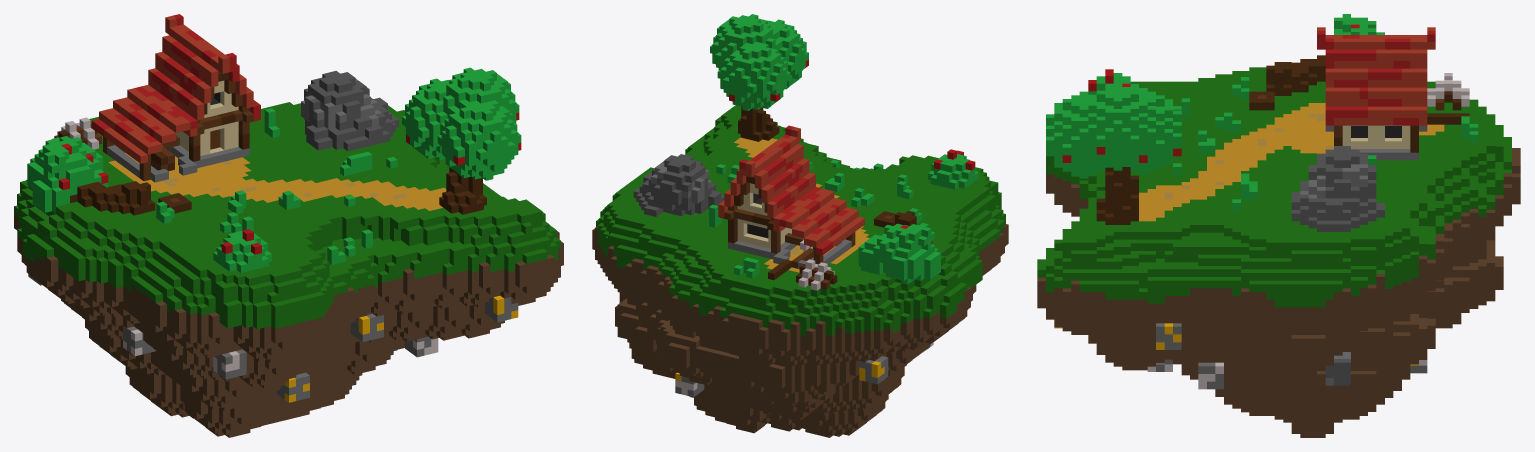
Rendered from Wood.obj.
3 renders of one model, left to right at view 1: azimuth 30°, elevation 25°; view 2: azimuth 150°, elevation 25°; view 3: azimuth 270°, elevation 25°, orthographic. The views are drawn at different scales.
Bounding box in the file's own units: 5.7 × 4.8 × 5.7.
Materials: 1 (1 with a texture image).
